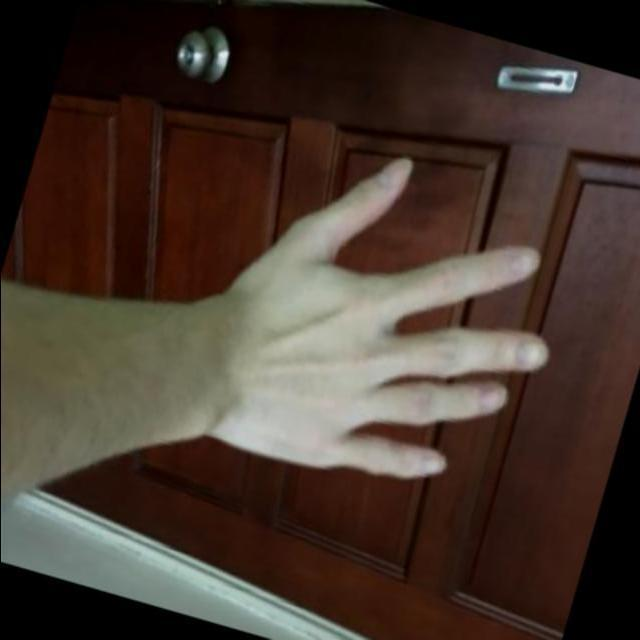hand: (140, 98, 613, 554)
